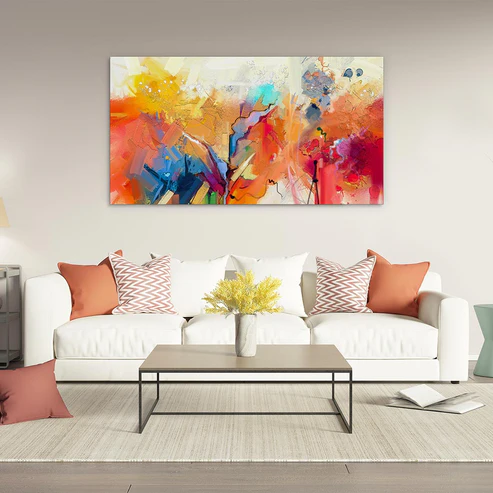painting: (110, 56, 384, 205)
